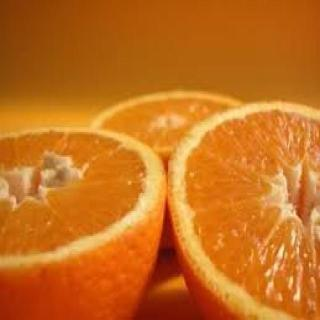orange: (163, 89, 320, 320), (0, 105, 168, 320), (90, 79, 262, 259)
